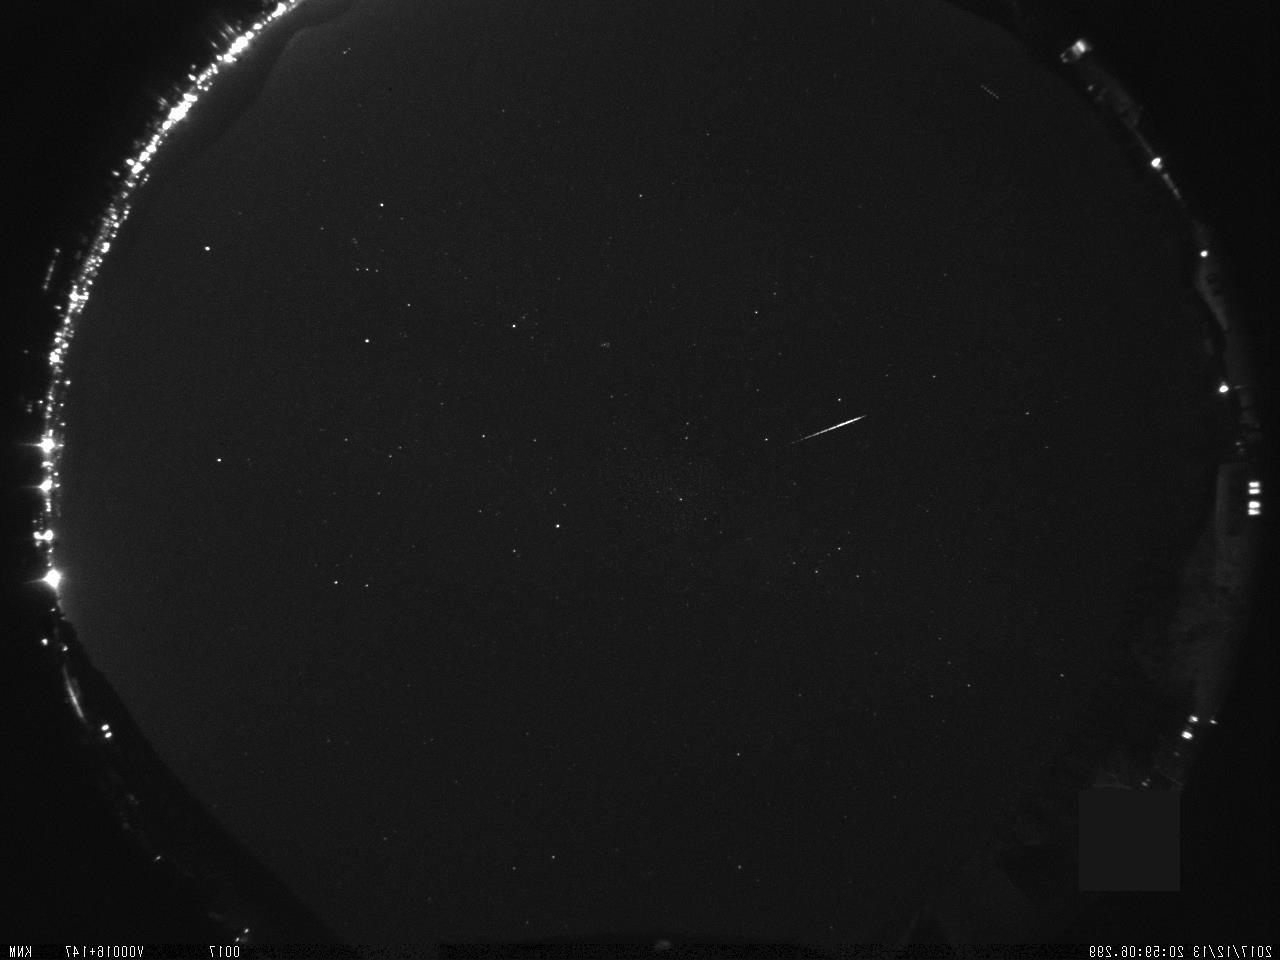meteor: (785, 393, 878, 463)
